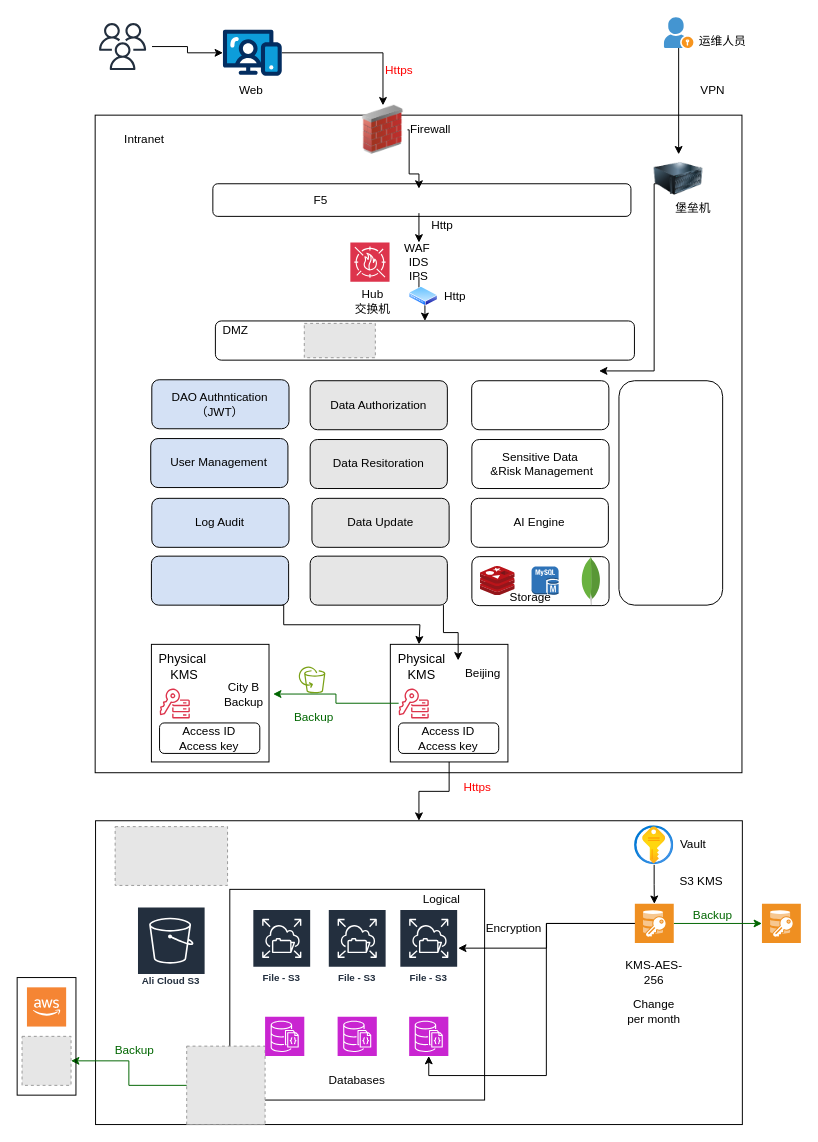
Some shapes in this 818 by 1142 pixel diagram are drawn without their labels. Grey dashed boxes stand in for pictures. Here are the shapes that lost their labels. From the top down, the box of each, then its label:
(92, 16, 152, 76): Users
(212, 183, 631, 216): Load Balancer
(214, 320, 634, 360): API gateweay
(471, 380, 609, 430): Data Classification
(618, 380, 723, 605): Micro Servicce Management （TBD）
(150, 555, 289, 605): Key Management
(309, 555, 447, 605): Data Request
